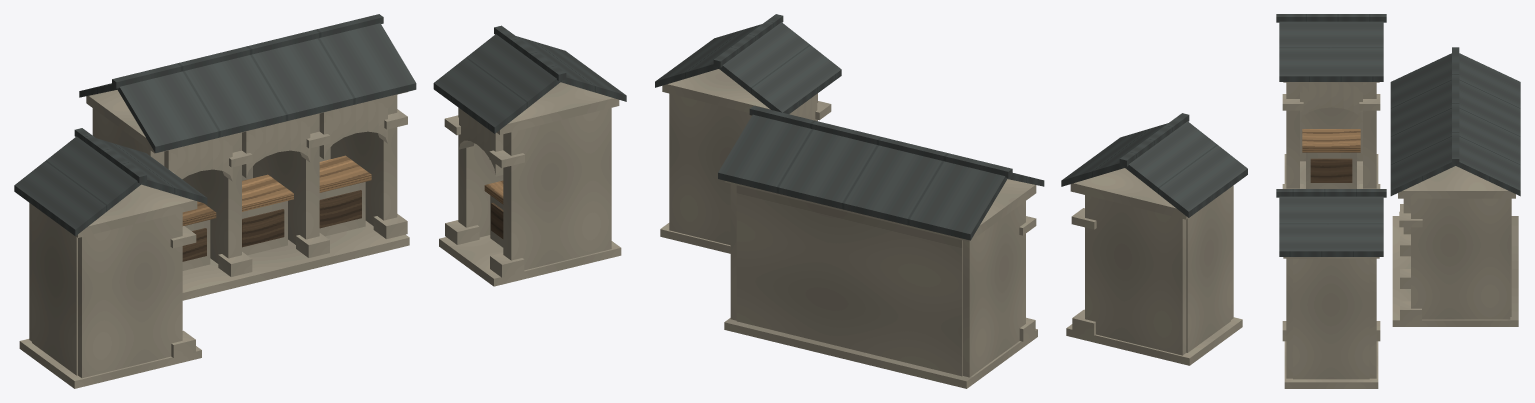
File: calabar.glb
3 renders of one model, left to right at view 1: azimuth 30°, elevation 25°; view 2: azimuth 150°, elevation 25°; view 3: azimuth 270°, elevation 25°, orthographic. The views are drawn at different scales.
Parts seen in each view (by area): view 1: calabar; view 2: calabar; view 3: calabar.
Part boxes in pixels (bbox=[...]): calabar: bbox=[14, 14, 626, 388]; calabar: bbox=[655, 14, 1247, 388]; calabar: bbox=[1276, 14, 1520, 388].
Size of the model in its own units: 6 by 2.09 by 2.7.
1 material, 1 textured.
